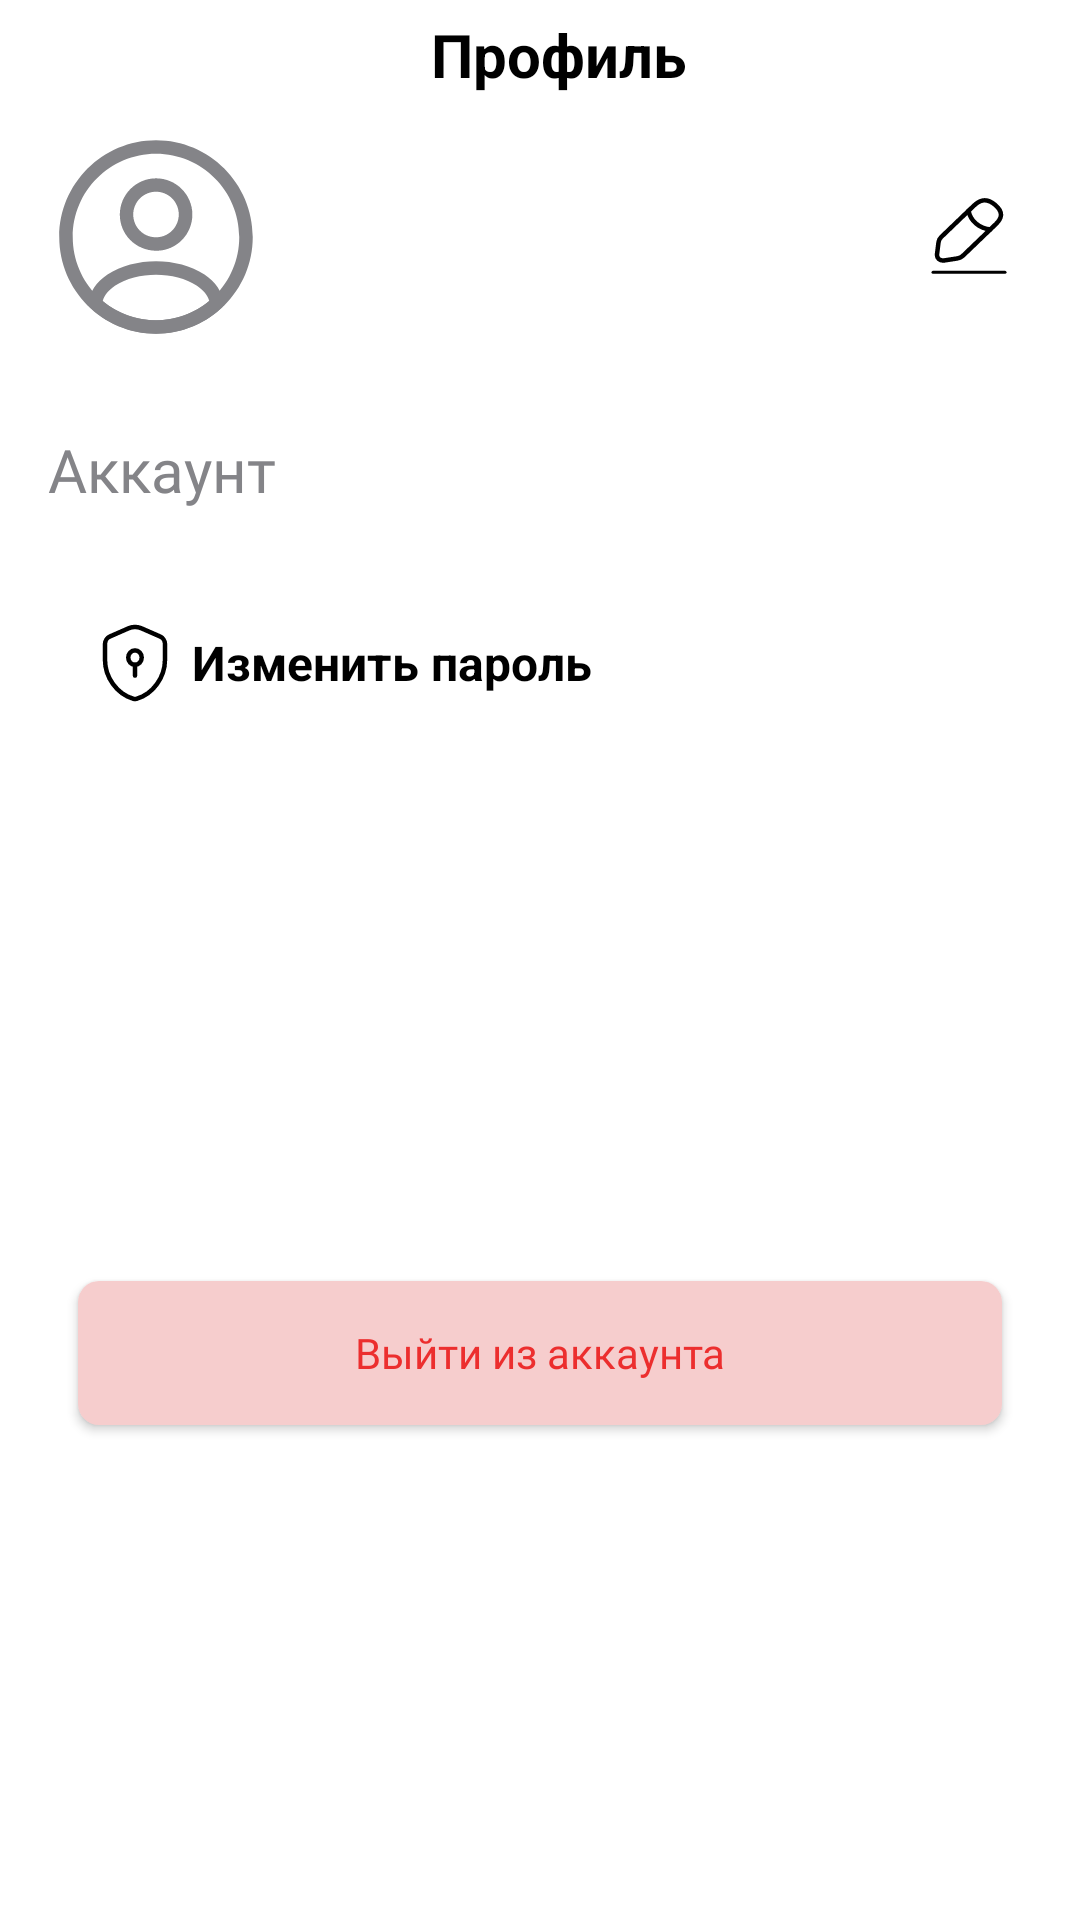

Icons on this 1080 x 1920 Android screen, each with its box as bbox=[x1, y1, x2, y2]:
edit: bbox=[931, 198, 1007, 274]
security: bbox=[102, 624, 168, 702]
user: bbox=[59, 140, 253, 334]
